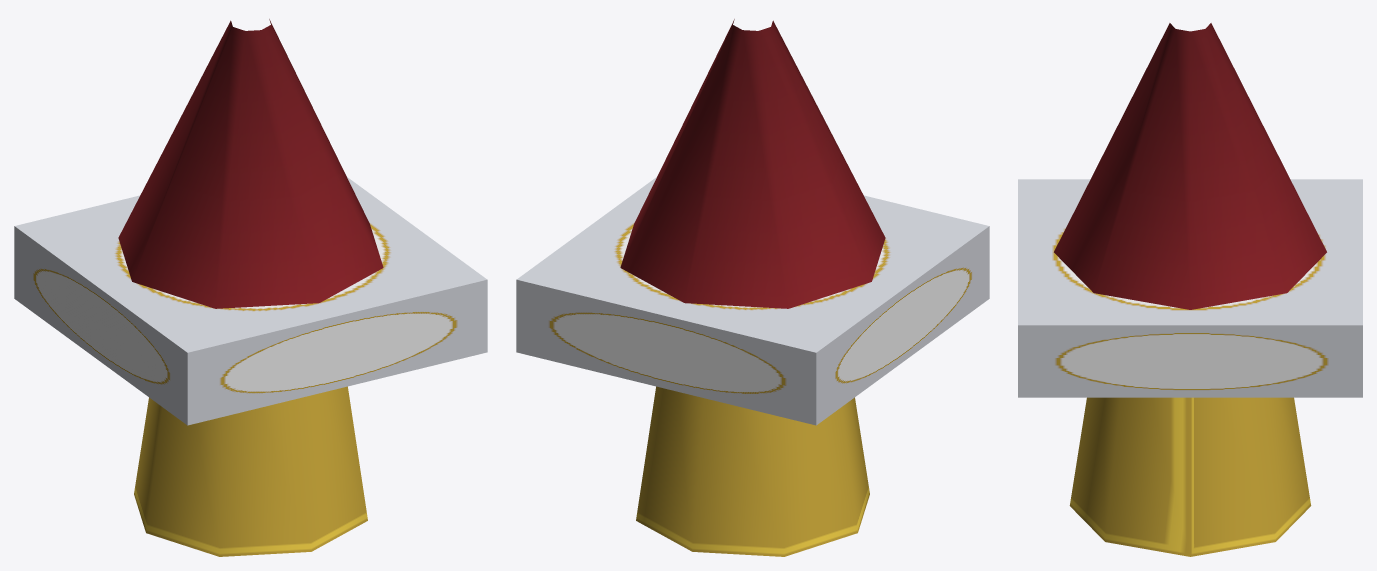
Rendered from consumable_health_elixir.glb.
3 renders of one model, left to right at view 1: azimuth 30°, elevation 25°; view 2: azimuth 150°, elevation 25°; view 3: azimuth 270°, elevation 25°, orthographic.
Visible parts, largest first — view 1: consumable_health_elixir; view 2: consumable_health_elixir; view 3: consumable_health_elixir.
Part boxes in pixels (<box>): consumable_health_elixir: <box>14,19,487,556</box>; consumable_health_elixir: <box>516,19,989,556</box>; consumable_health_elixir: <box>1018,23,1362,556</box>.
Bounding box in the file's own units: 0.22 × 0.34 × 0.22.
1 material, 1 textured.
